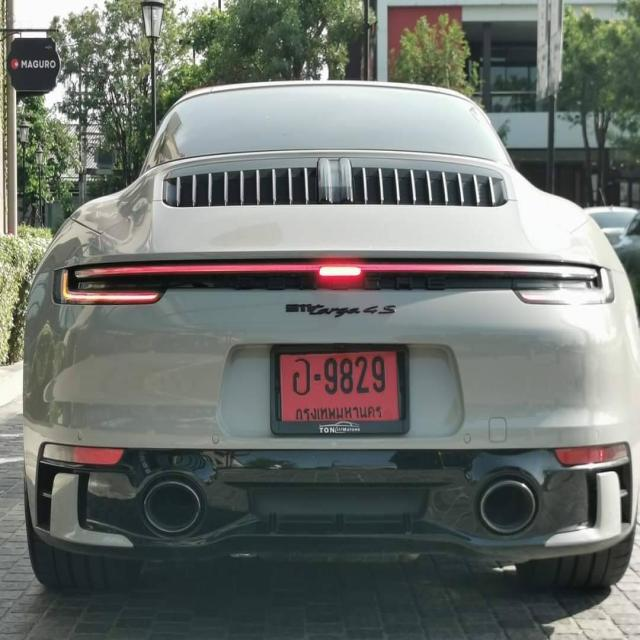license_plate: (268, 334, 412, 443)
